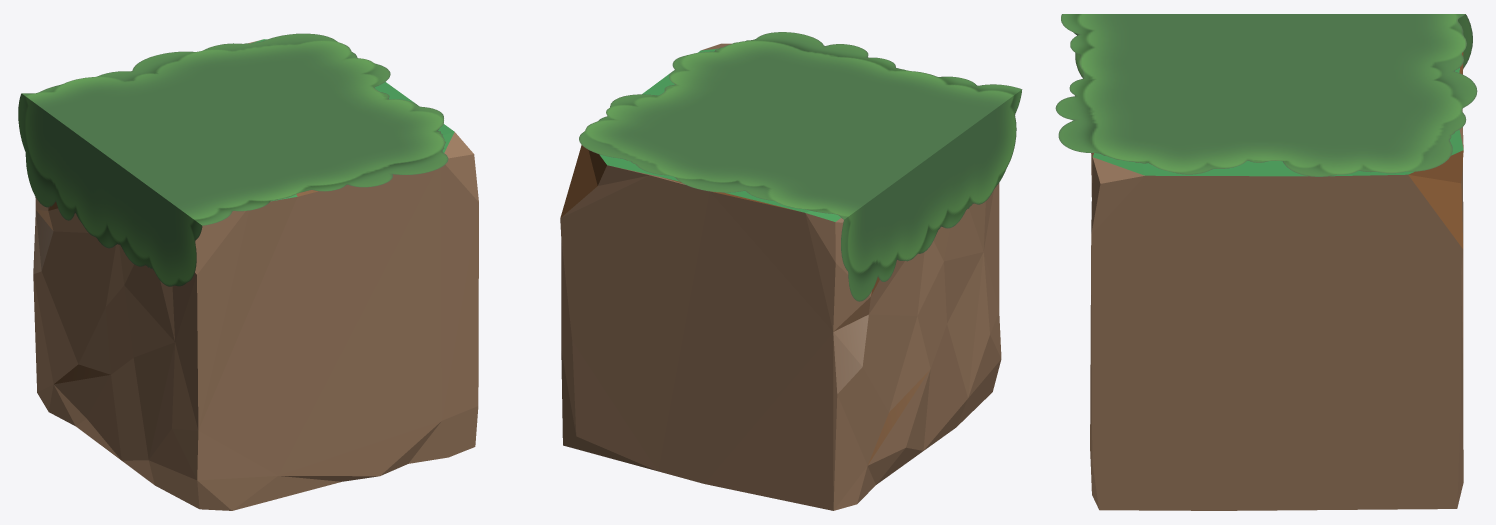
Rendered from Cliff_Cube2.fbx.
The picture shows the model from 3 angles, left to right: view 1: azimuth 30°, elevation 25°; view 2: azimuth 150°, elevation 25°; view 3: azimuth 270°, elevation 25°; orthographic projection. The views are drawn at different scales.
Parts seen in each view (by area): view 1: Sand.001, Grass_alpha.001; view 2: Sand.001, Grass_alpha.001; view 3: Sand.001, Grass_alpha.001.
Boxes of the visible parts, <box> form: Sand.001: <box>33,39,478,510</box>; Grass_alpha.001: <box>18,33,448,286</box>; Sand.001: <box>560,43,1001,510</box>; Grass_alpha.001: <box>579,32,1022,301</box>; Sand.001: <box>1090,52,1463,510</box>; Grass_alpha.001: <box>1055,14,1477,176</box>.
Bounding box in the file's own units: 1.05 × 1.01 × 1.15.
